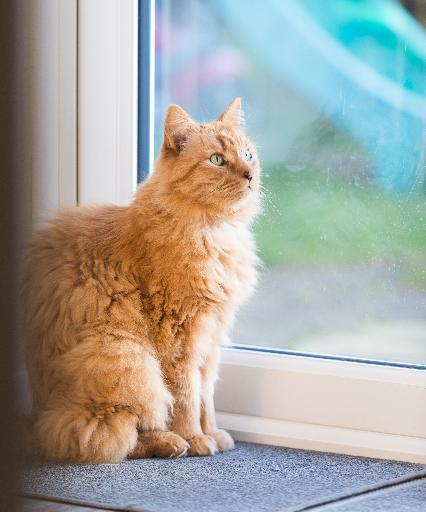cat_sitting: (23, 98, 262, 463)
